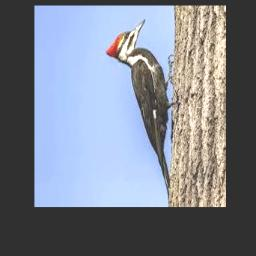Woodpecker: (106, 18, 174, 201)
